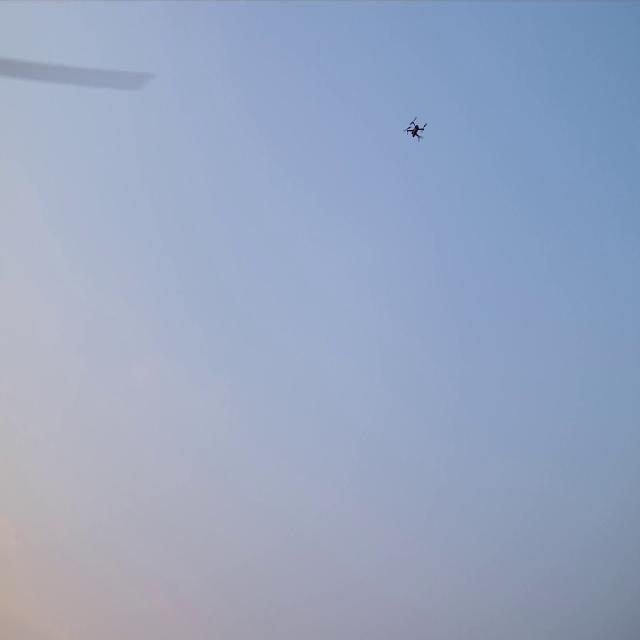UAV: (403, 116, 428, 142)
